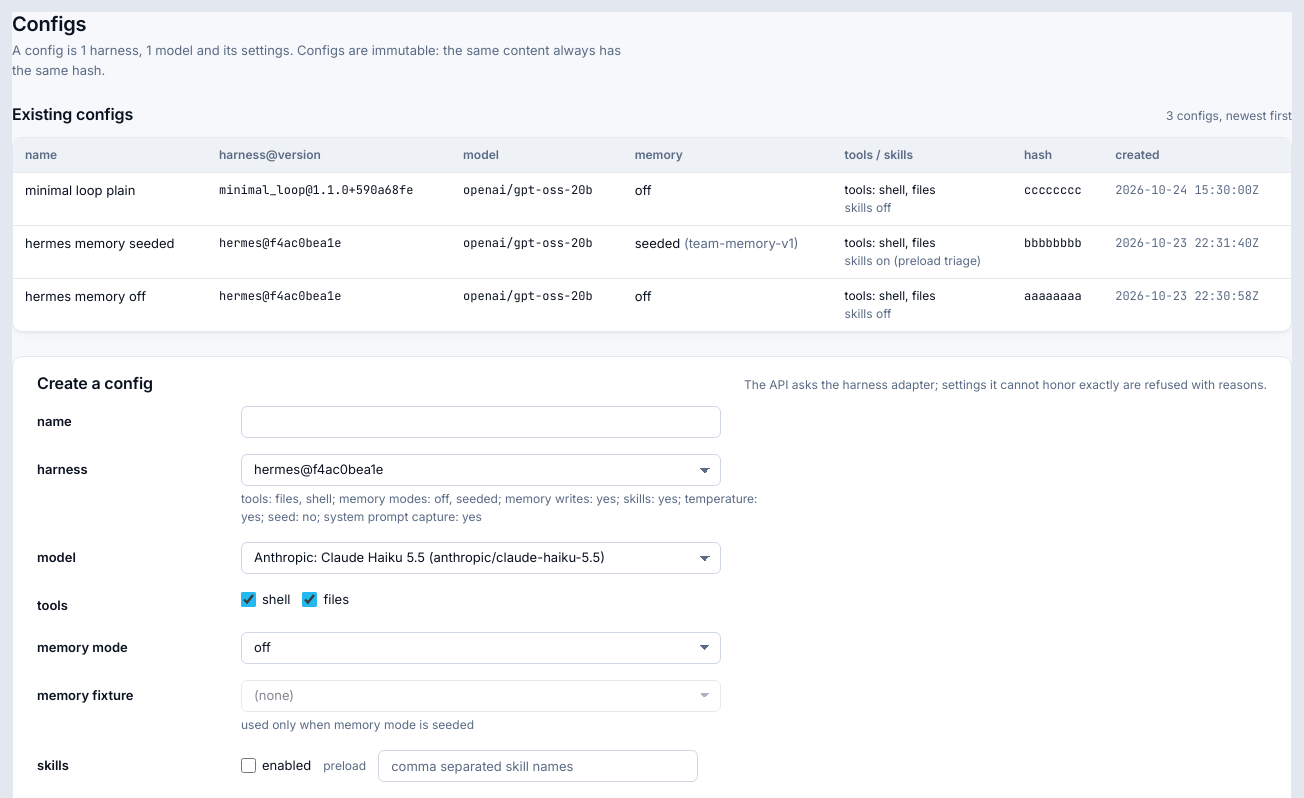
Test: ConfigsView form options › disables the fixture select unless memory mode is seeded
Check: the dropdown with id "cfg-memory-fixture" is disabled, box [241,680,721,712]
Select "seeded" in the dropdown with id "cfg-memory-mode": (481,648) [241,632,721,664]
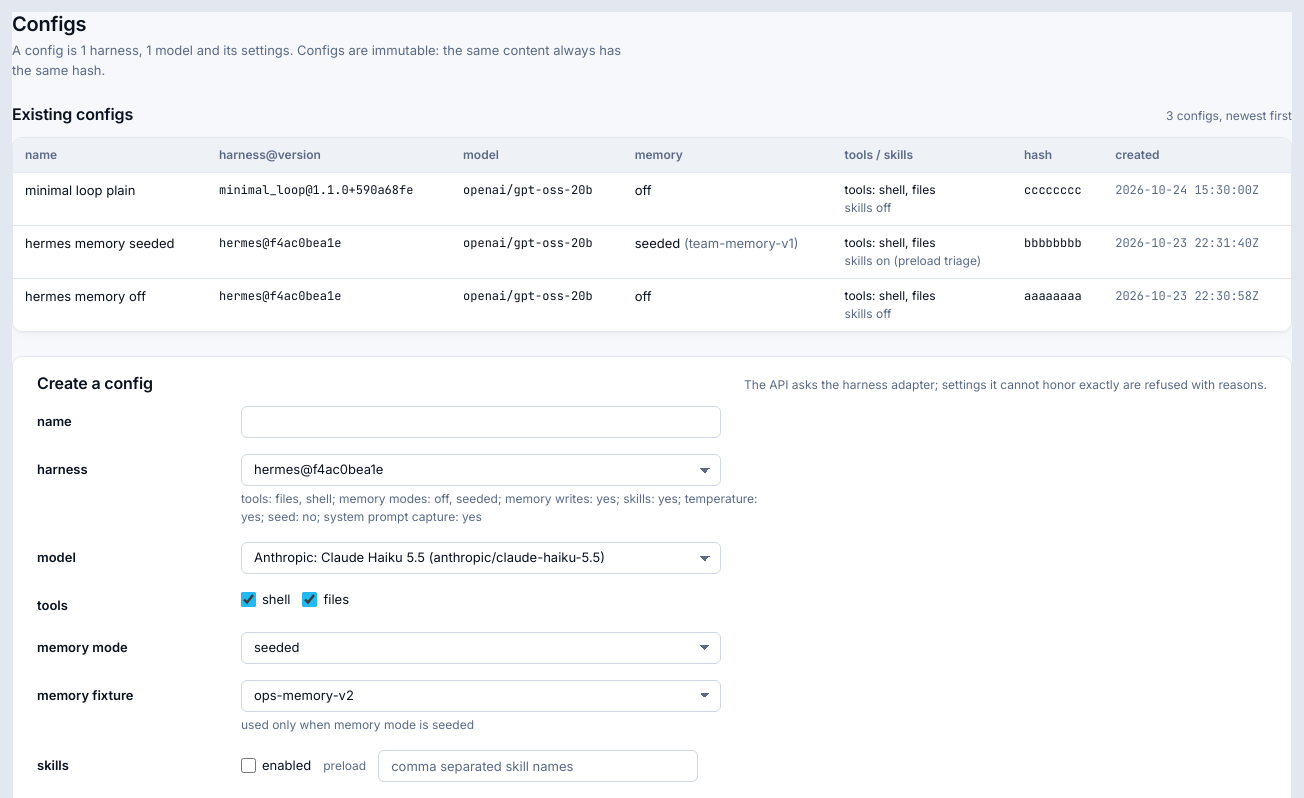
Check: the dropdown with id "cfg-memory-fixture" is enabled, box [241,680,721,712]
